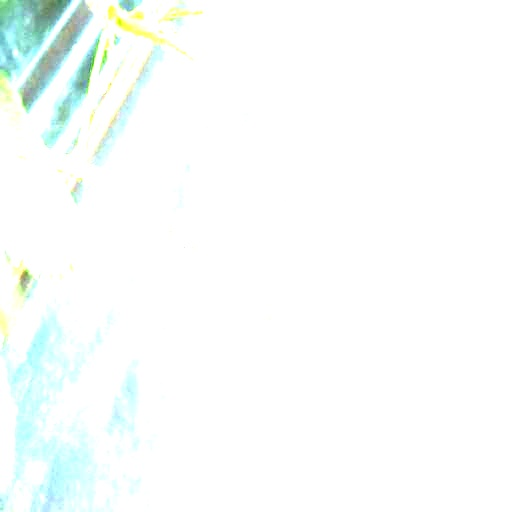Gray Mold: (241, 71, 304, 215)
